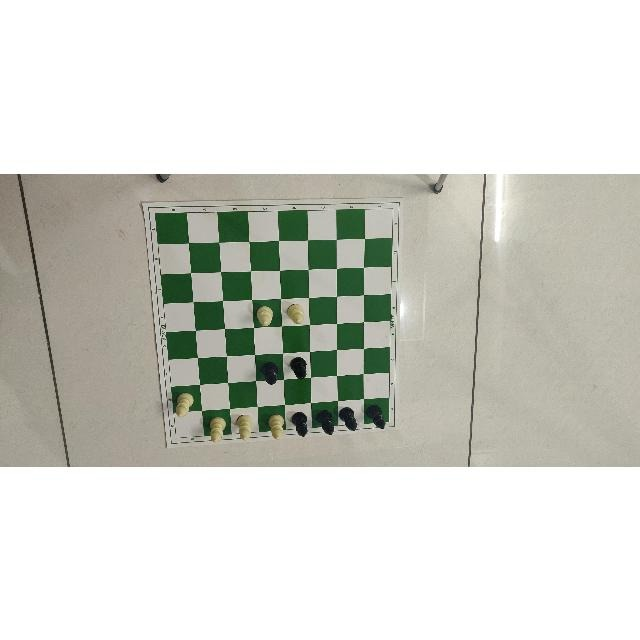black-bishop: (365, 403, 387, 429), (338, 406, 360, 432), (317, 409, 335, 435), (291, 411, 309, 437), (289, 356, 308, 380), (261, 361, 279, 384)
white-bishop: (206, 415, 226, 443), (236, 412, 254, 441), (174, 392, 193, 418), (268, 413, 285, 440), (287, 302, 307, 324), (256, 303, 272, 326)
